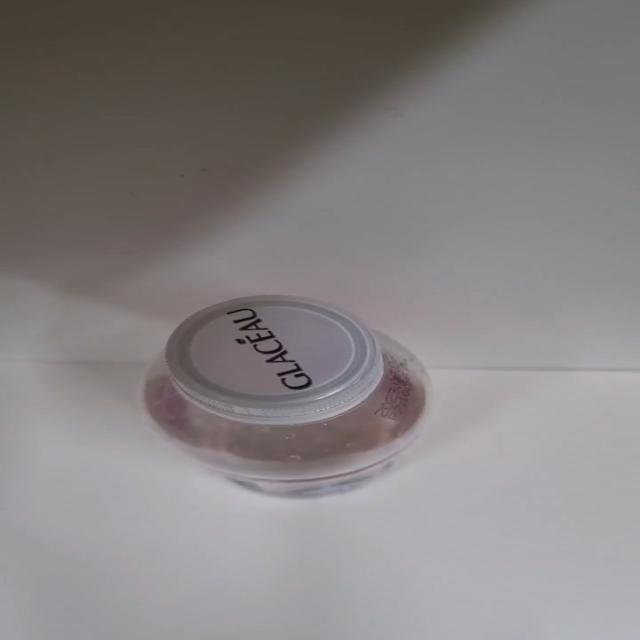Plastic: (142, 295, 432, 498)
